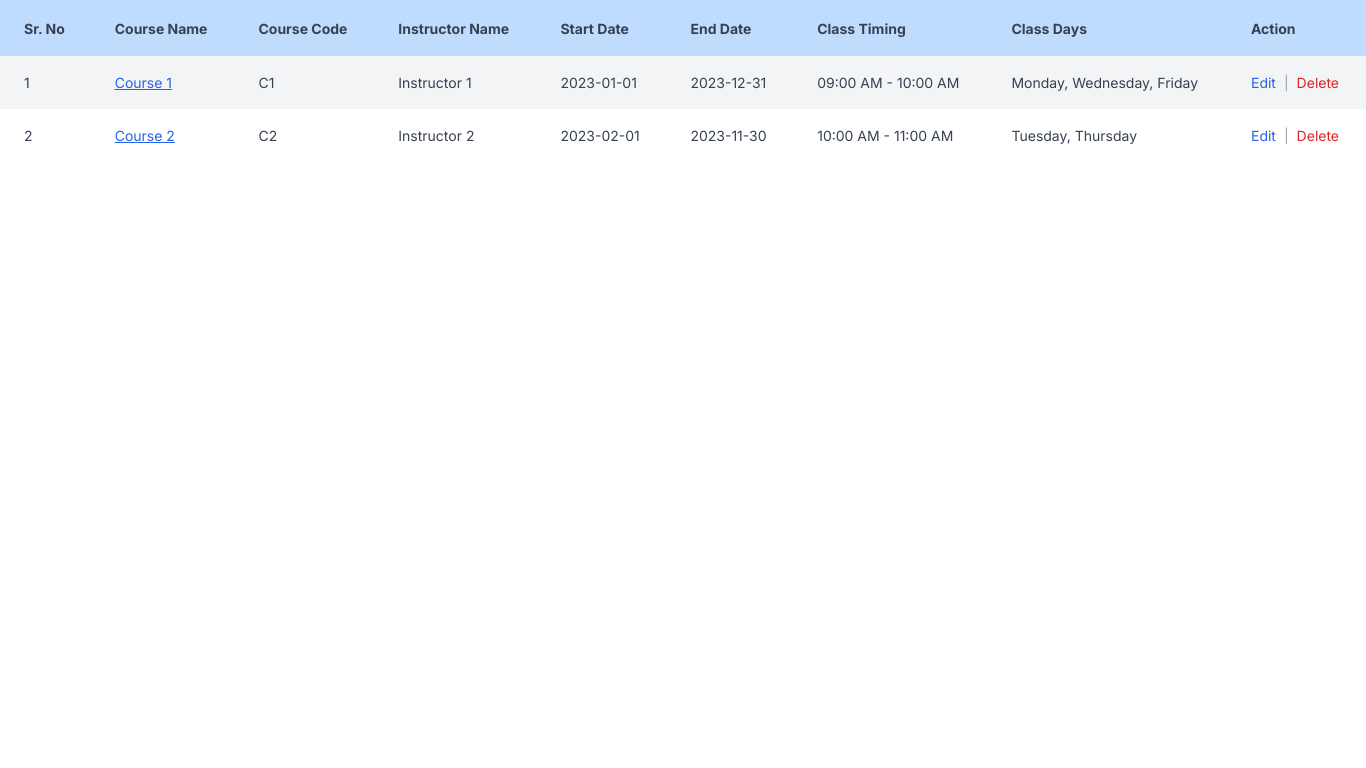
Scenario: CourseTable Component › closes delete confirmation on cancel
The image size is (1366, 768).
Click the button "Delete" in the row of "Course 1".
click(1318, 82)  # box [1297,72,1339,93]
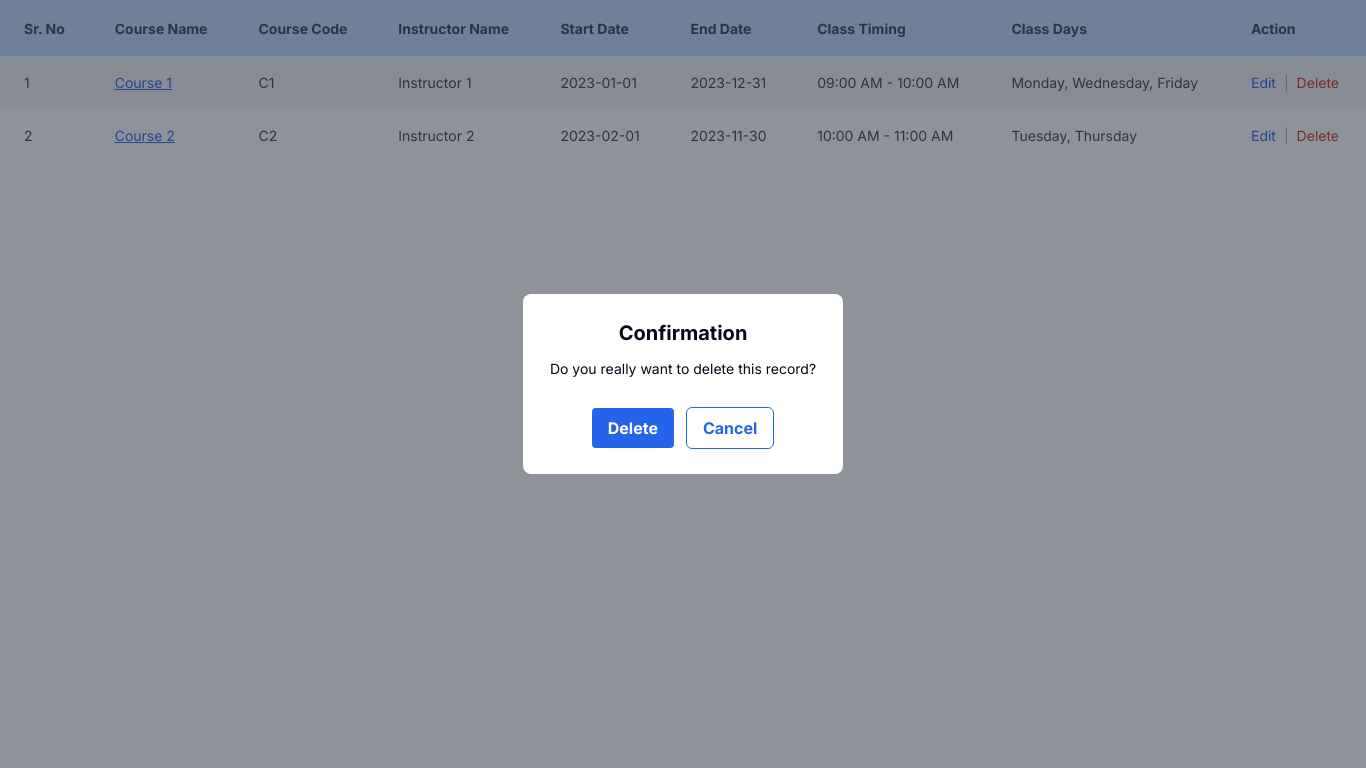
Expected: the heading "Do you really want to delete this record?" is shown, [550,359,816,379]
Click the button "Cancel".
click(730, 428)  # box [686,407,774,449]
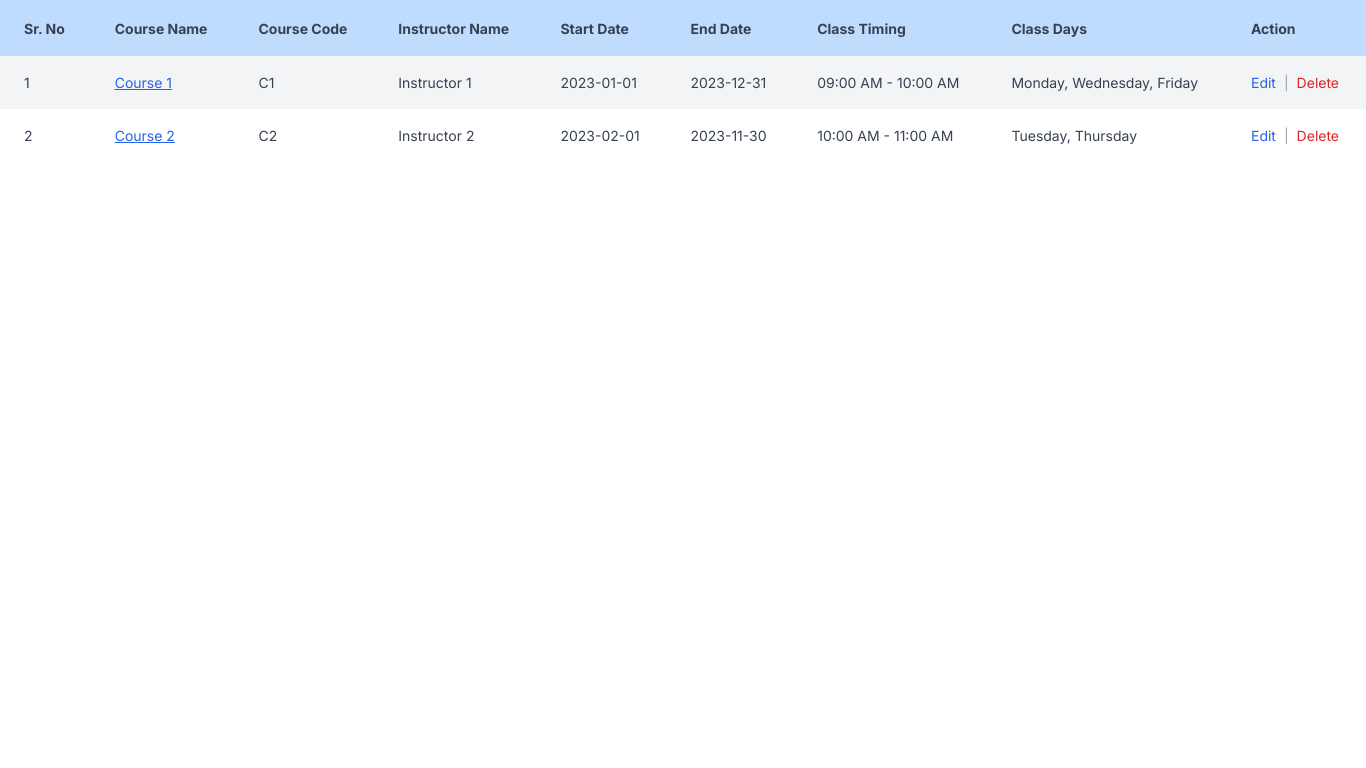
Expected: the heading "Do you really want to delete this record?" is gone
